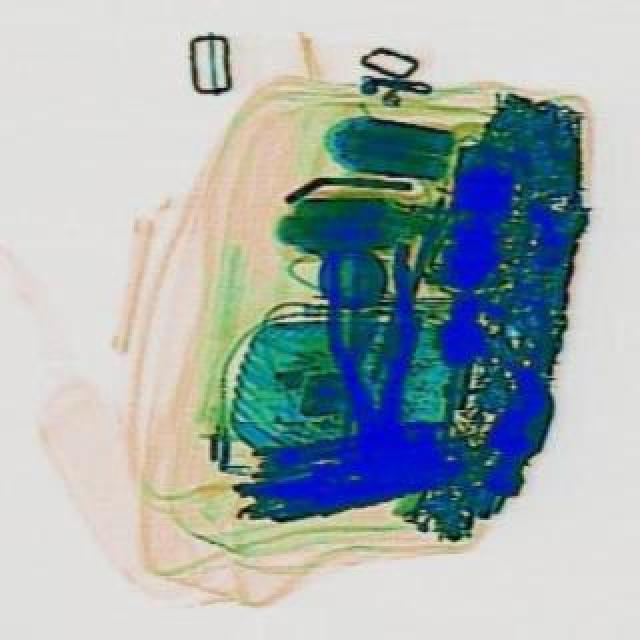wrench: (318, 246, 426, 484)
